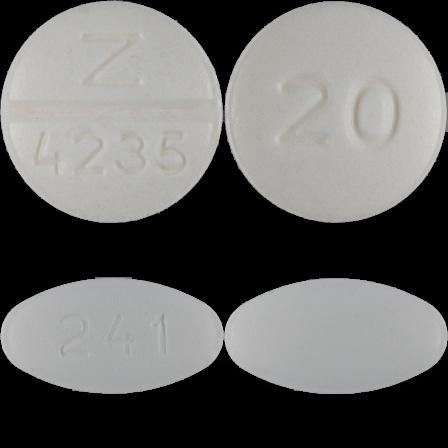42254-094: (0, 0, 224, 224)
